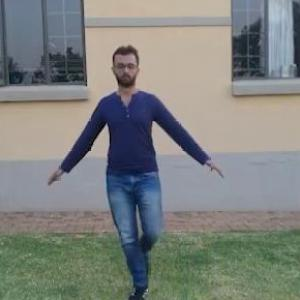land: (55, 24, 234, 288)
